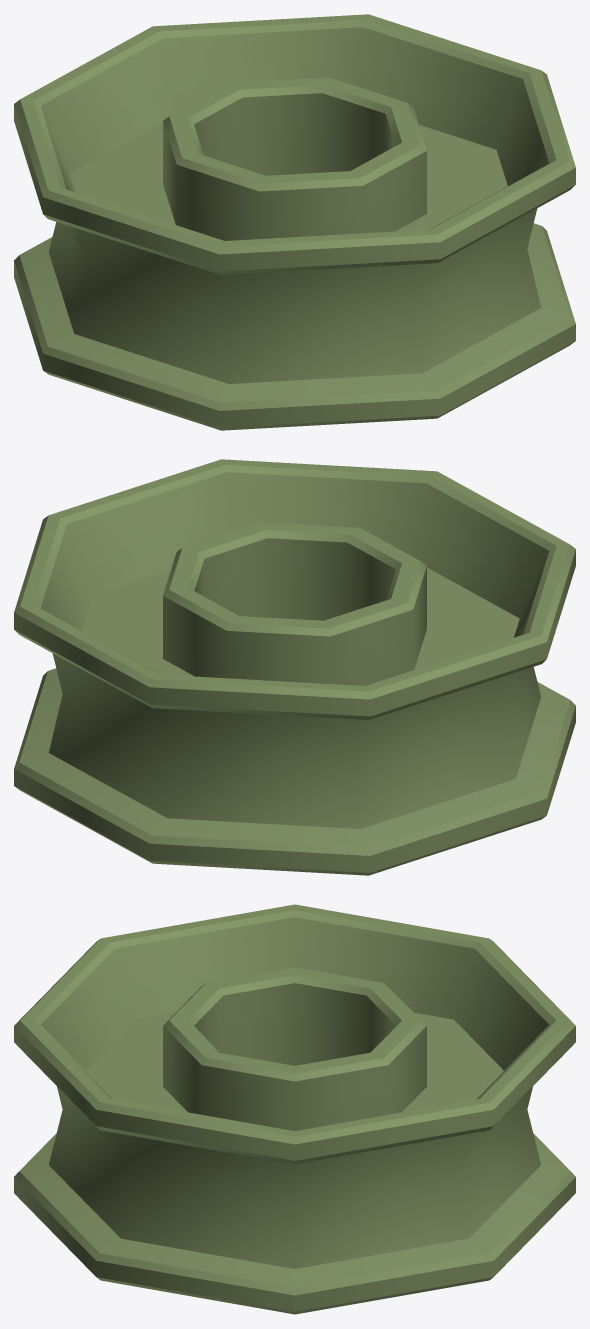
The model's file is WE01_Jetty_HandReel_Green.fbx.
The picture shows the model from 3 angles, top to bottom: view 1: azimuth 30°, elevation 25°; view 2: azimuth 150°, elevation 25°; view 3: azimuth 270°, elevation 25°; orthographic projection. The views are drawn at different scales.
Visible parts, largest first — view 1: pPipe2; view 2: pPipe2; view 3: pPipe2.
Boxes of the visible parts, left/top/right/bottom form: pPipe2: left=14, top=14, right=575, bottom=430; pPipe2: left=14, top=459, right=575, bottom=875; pPipe2: left=14, top=904, right=575, bottom=1314.
Bounding box in the file's own units: 1.13 × 0.3932 × 1.13.
